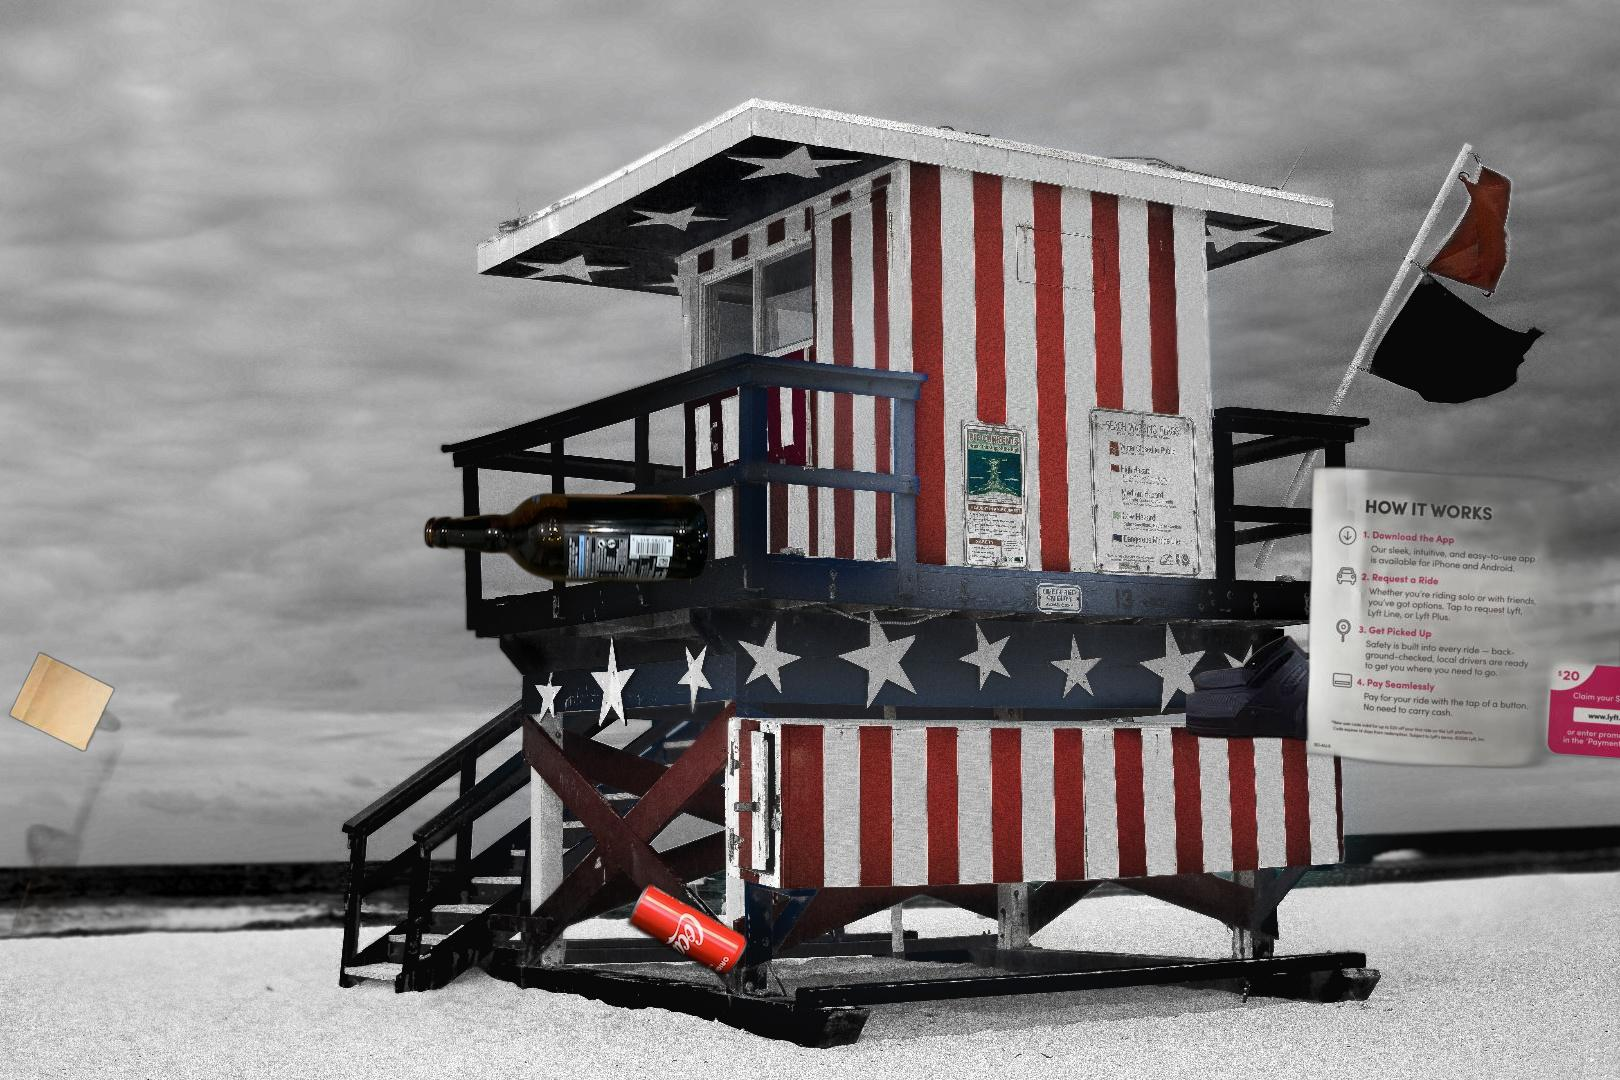glass: (419, 313, 837, 587)
metal-cans: (352, 662, 752, 1080)
paper: (1293, 445, 1620, 816)
paper-bag: (7, 651, 172, 935)
shoes: (1186, 633, 1380, 745)
